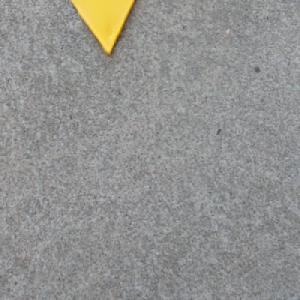PlasticPart: (72, 0, 138, 57)
